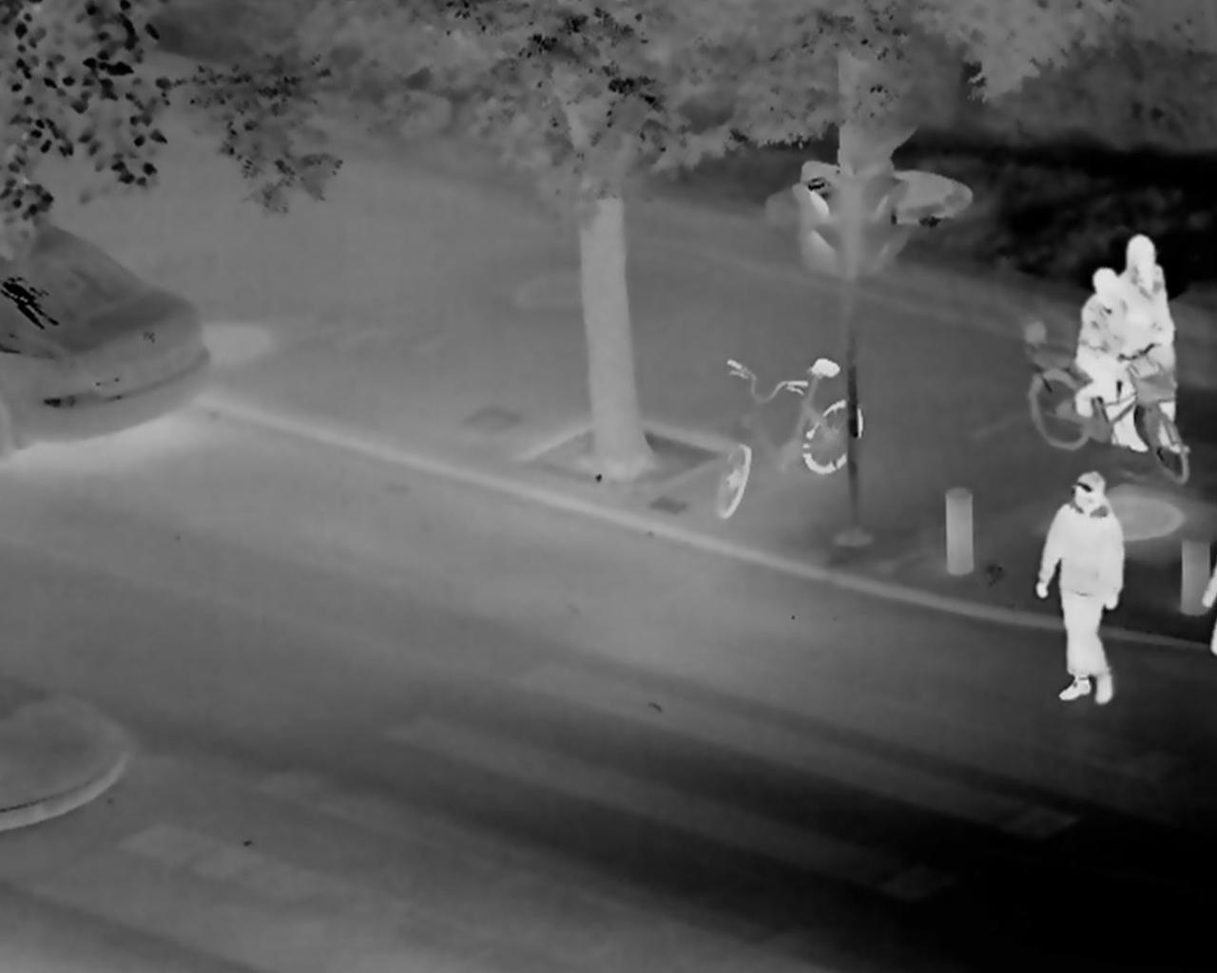person: (1034, 470, 1127, 705), (1120, 234, 1188, 455), (1081, 269, 1144, 453)
